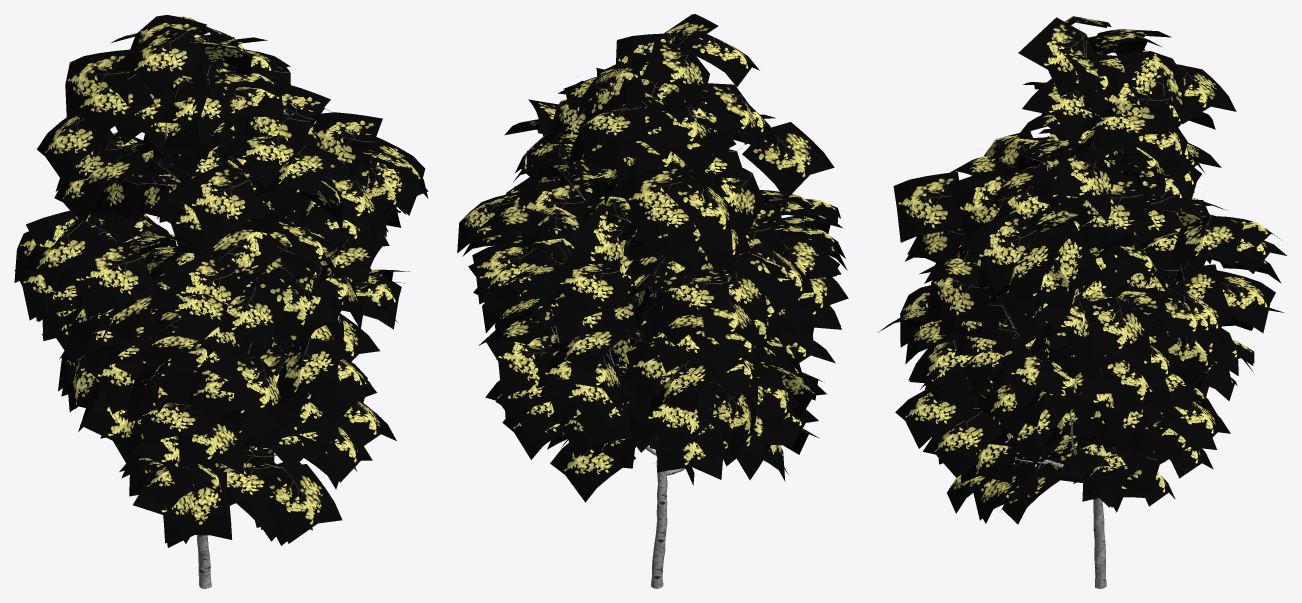
File: mountain_trees2.obj
The picture shows the model from 3 angles, left to right: view 1: azimuth 30°, elevation 25°; view 2: azimuth 150°, elevation 25°; view 3: azimuth 270°, elevation 25°; orthographic projection. The views are drawn at different scales.
Visible parts, largest first — view 1: foliage.006, structure.008; view 2: foliage.006, structure.008; view 3: foliage.006, structure.008.
Boxes of the visible parts, <box> form: foliage.006: <box>14,15,428,547</box>; structure.008: <box>91,27,314,588</box>; foliage.006: <box>457,14,848,502</box>; structure.008: <box>536,33,766,588</box>; foliage.006: <box>878,16,1286,524</box>; structure.008: <box>973,27,1210,588</box>.
Bounding box in the file's own units: 19.63 × 30.17 × 20.2.
